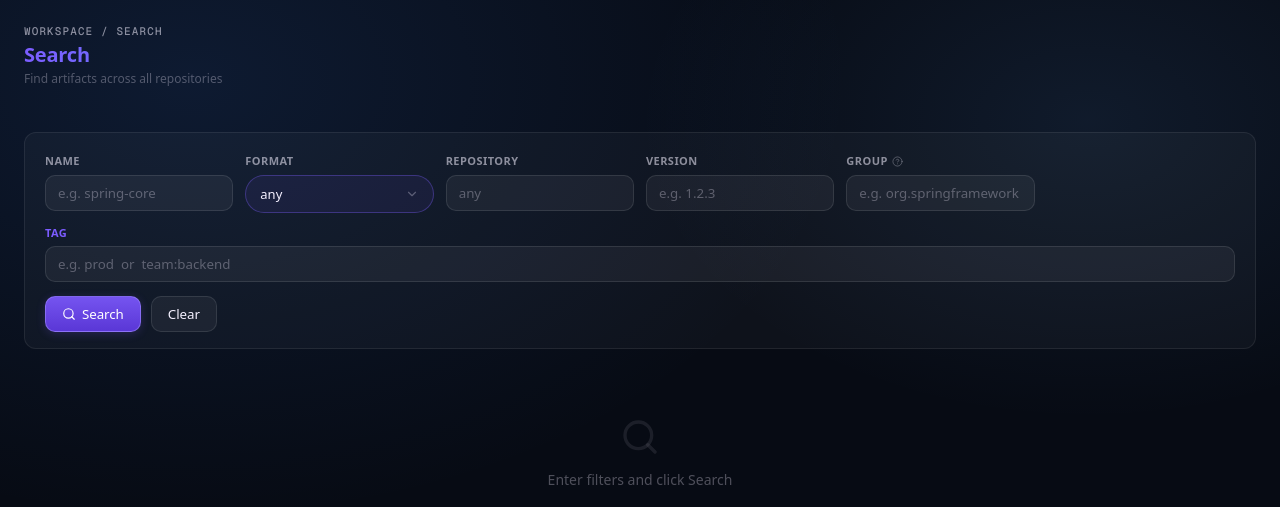
Test: SearchPage › shows no-results state when search returns empty
Type "nope" into the field with placeholder "e.g. spring-core". click: (139, 193)
box: [45,175,233,211]
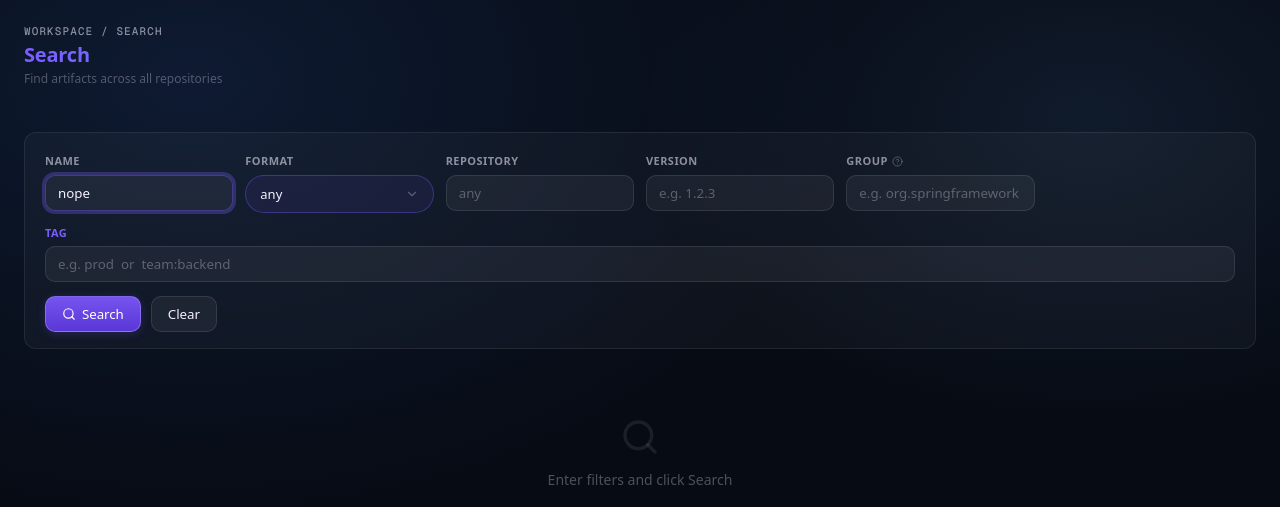
Click the button "Search". click: (93, 314)
box: [45,296,141,332]
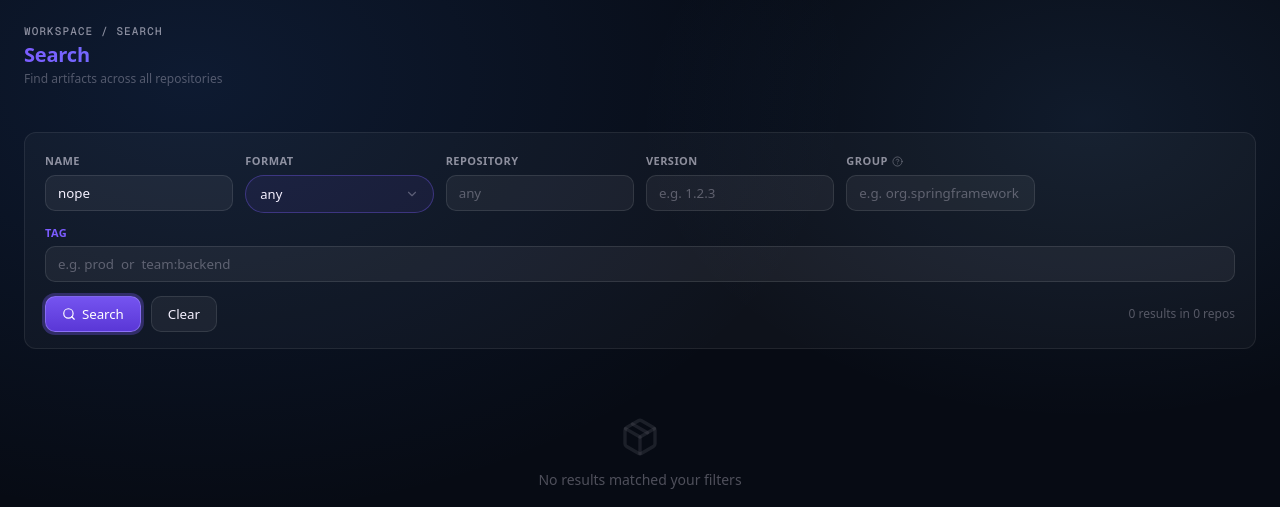
Result: the text "No results matched your filters" is shown at [538,469,742,490]
